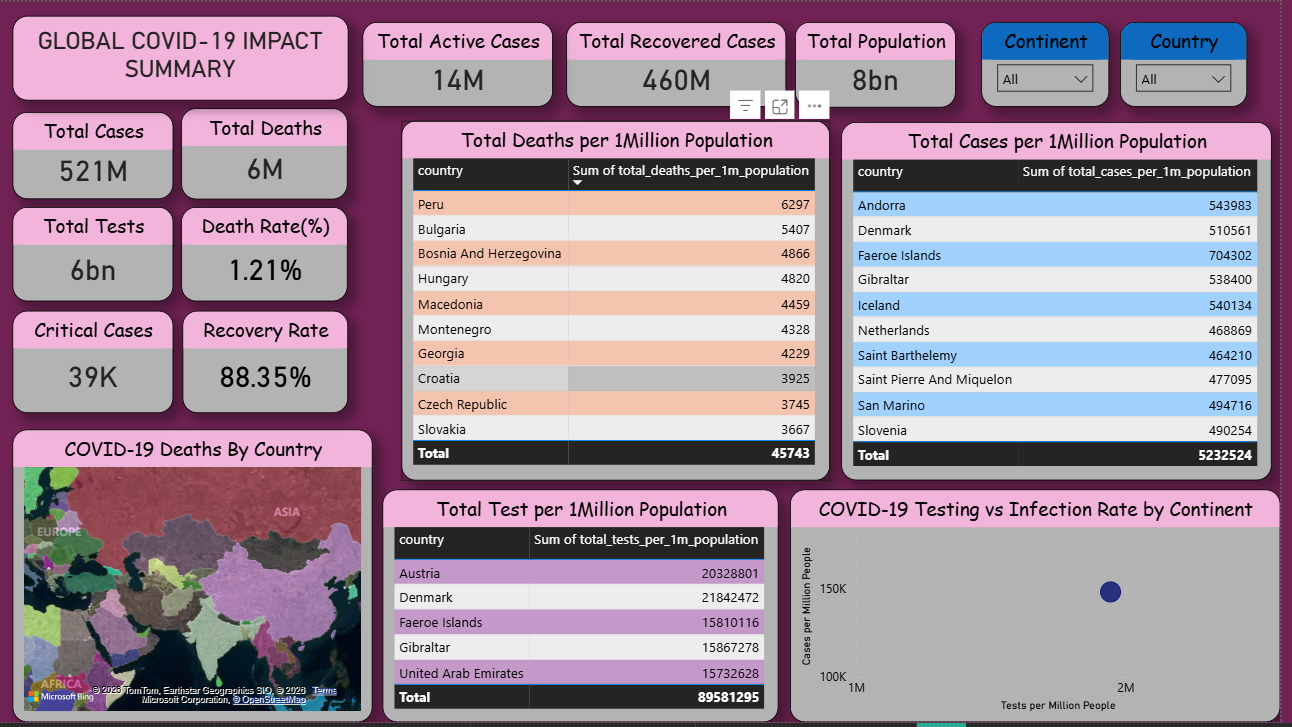

The dashboard page shown, as its layout file describes it:
{"tool":"powerbi","page":{"name":"Global COVID-19 Impact Summary","canvas":[1280,720],"ordinal":0},"visuals":[{"type":"slicer","title":"Continent","fields":{"Values":["worldometer_coronavirus_summary_data.continent"]},"box":[981.5,19.9,128.1,84.6],"z":0},{"type":"slicer","title":"Country","fields":{"Values":["worldometer_coronavirus_daily_data.country"]},"box":[1119.6,19.9,126.9,84.6],"z":1000},{"type":"filledMap","title":"COVID-19 Deaths By Country","fields":{"Category":["worldometer_coronavirus_summary_data.country"],"Series":["worldometer_coronavirus_summary_data.total_deaths"]},"box":[12.5,427.5,360,292.5],"z":2000},{"type":"card","title":"Total Recovered Cases","fields":{"Values":["Sum(worldometer_coronavirus_summary_data.total_recovered)"]},"box":[566,19.9,220.2,84.6],"z":3000},{"type":"card","title":"Total Active Cases","fields":{"Values":["Sum(worldometer_coronavirus_summary_data.active_cases)"]},"box":[362.5,20,190,85],"z":4000},{"type":"card","title":"Total Cases","fields":{"Values":["Sum(worldometer_coronavirus_summary_data.total_confirmed)"]},"box":[12.4,109.5,160.5,87.1],"z":5000},{"type":"card","title":"Total Tests","fields":{"Values":["Sum(worldometer_coronavirus_summary_data.total_tests)"]},"box":[12.4,205.3,160.5,94.5],"z":6000},{"type":"card","title":"Total Deaths","fields":{"Values":["Sum(worldometer_coronavirus_summary_data.total_deaths)"]},"box":[181.6,105.7,166.7,90.8],"z":7000},{"type":"card","title":"Critical Cases","fields":{"Values":["Sum(worldometer_coronavirus_summary_data.serious_or_critical)"]},"box":[12.4,308.5,160.5,102],"z":8000},{"type":"card","title":"Total Population","fields":{"Values":["Sum(worldometer_coronavirus_summary_data.population)"]},"box":[794.9,19.9,160.5,85.8],"z":9000},{"type":"tableEx","title":"Total Deaths per 1Million Population","fields":{"Values":["worldometer_coronavirus_summary_data.country","Sum(worldometer_coronavirus_summary_data.total_deaths_per_1m_population)"]},"box":[401.2,118.8,428.8,360],"z":10000},{"type":"tableEx","title":"Total Cases per 1Million Population","fields":{"Values":["worldometer_coronavirus_summary_data.country","worldometer_coronavirus_summary_data.total_cases_per_1m_population"]},"box":[841.2,120,430,358.8],"z":11000},{"type":"tableEx","title":"Total Test per 1Million Population","fields":{"Values":["worldometer_coronavirus_summary_data.country","worldometer_coronavirus_summary_data.total_tests_per_1m_population"]},"box":[382.5,487.5,396.2,232.5],"z":12000},{"type":"card","title":"Death Rate(%)","fields":{"Values":["All Measures.Death_Rate"]},"box":[181.6,205.3,166.7,94.5],"z":13000},{"type":"scatterChart","title":"COVID-19 Testing vs Infection Rate by Continent","fields":{"Y":["worldometer_coronavirus_summary_data.total_cases_per_1m_population"],"X":["worldometer_coronavirus_summary_data.total_tests_per_1m_population"],"Size":["Sum(worldometer_coronavirus_summary_data.total_deaths)"]},"box":[790,487.5,490,232.5],"z":14000},{"type":"card","title":"Recovery Rate","fields":{"Values":["All Measures.Recovery_Rate"]},"box":[182.9,308.5,165.4,102],"z":15000},{"type":"textbox","box":[12.4,13.7,335.9,84.6],"z":16000}]}

Visuals, with their boxes in screenshot pixels (x1, y1, x2, y2), scaled from the page's 1280x720 canvas onto the 1292x727 screenshot:
"Continent" slicer: [991,20,1120,106]
"Country" slicer: [1130,20,1258,106]
"COVID-19 Deaths By Country" filledMap: [13,432,376,726]
"Total Recovered Cases" card: [571,20,794,106]
"Total Active Cases" card: [366,20,558,106]
"Total Cases" card: [13,111,175,199]
"Total Tests" card: [13,207,175,303]
"Total Deaths" card: [183,107,352,198]
"Critical Cases" card: [13,311,175,414]
"Total Population" card: [802,20,964,107]
"Total Deaths per 1Million Population" tableEx: [405,120,838,483]
"Total Cases per 1Million Population" tableEx: [849,121,1283,483]
"Total Test per 1Million Population" tableEx: [386,492,786,726]
"Death Rate(%)" card: [183,207,352,303]
"COVID-19 Testing vs Infection Rate by Continent" scatterChart: [797,492,1291,726]
"Recovery Rate" card: [185,311,352,414]
textbox: [13,14,352,99]
